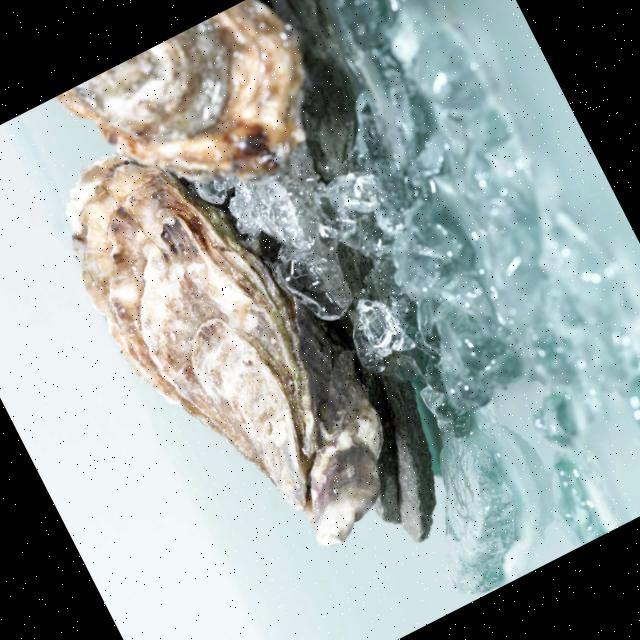Oyster-Closed: (68, 156, 382, 544), (60, 0, 305, 180)
